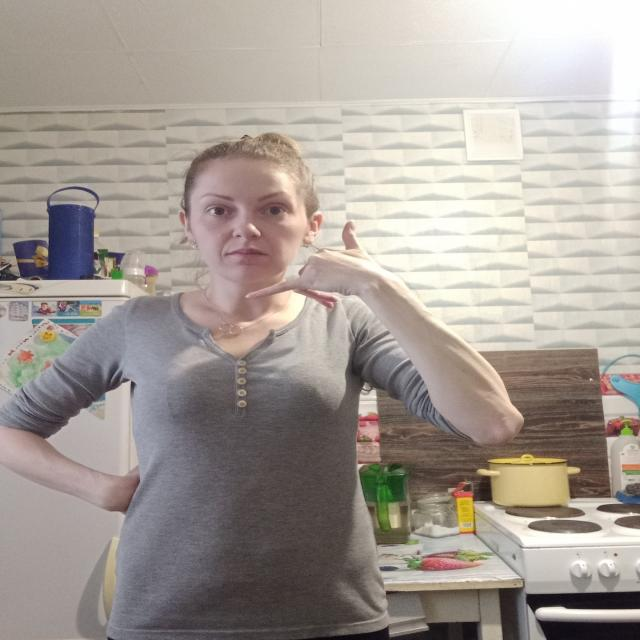call: (243, 217, 388, 310)
